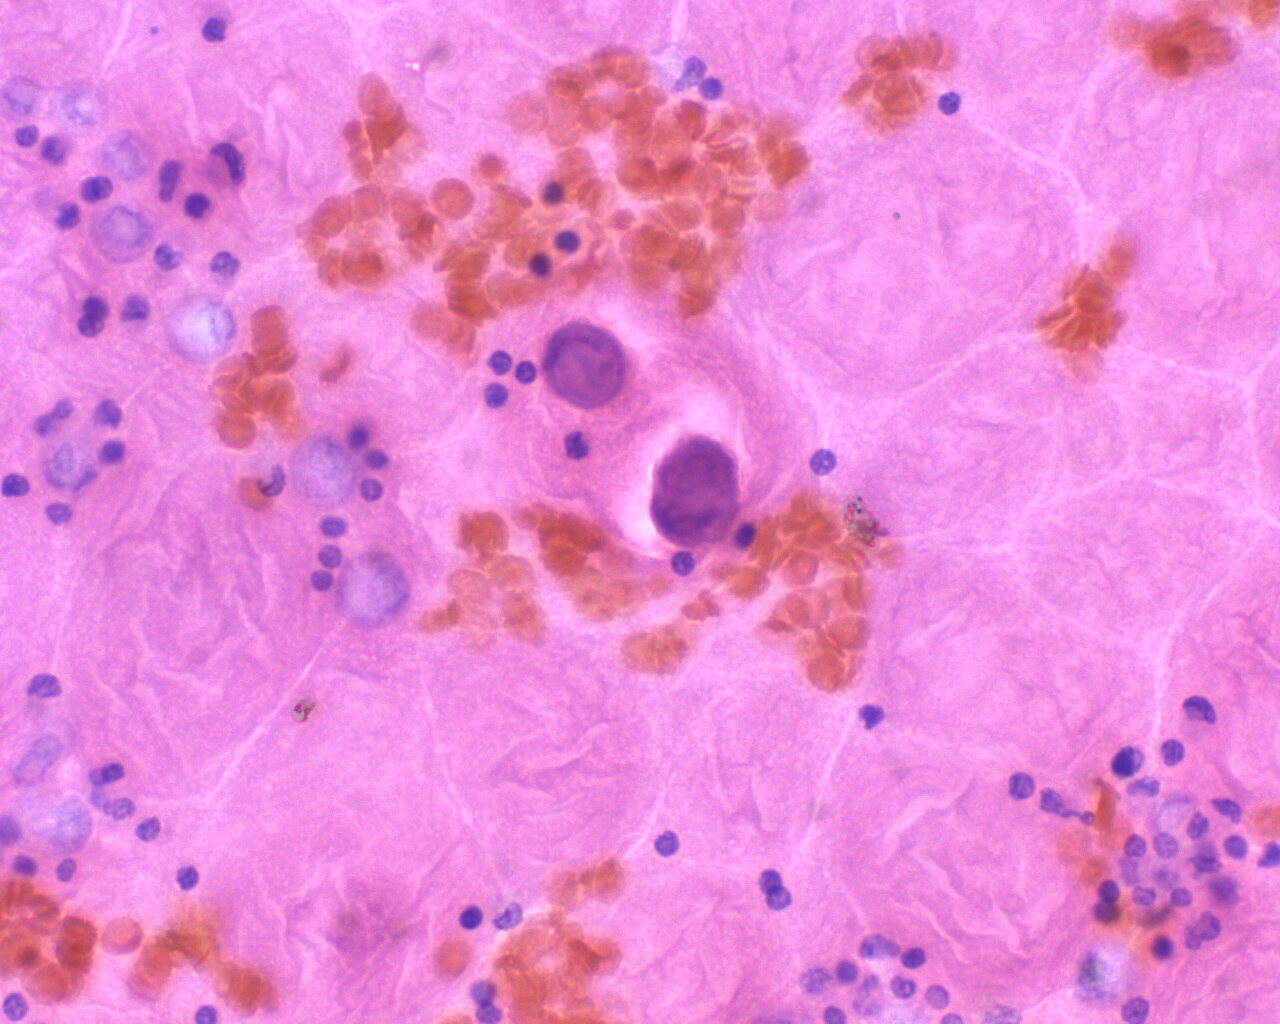ab: (639, 434, 742, 545), (538, 317, 633, 414)
lymph: (647, 823, 689, 861), (456, 897, 493, 934), (935, 84, 968, 119), (303, 566, 338, 597), (352, 472, 385, 504), (481, 382, 510, 410)
